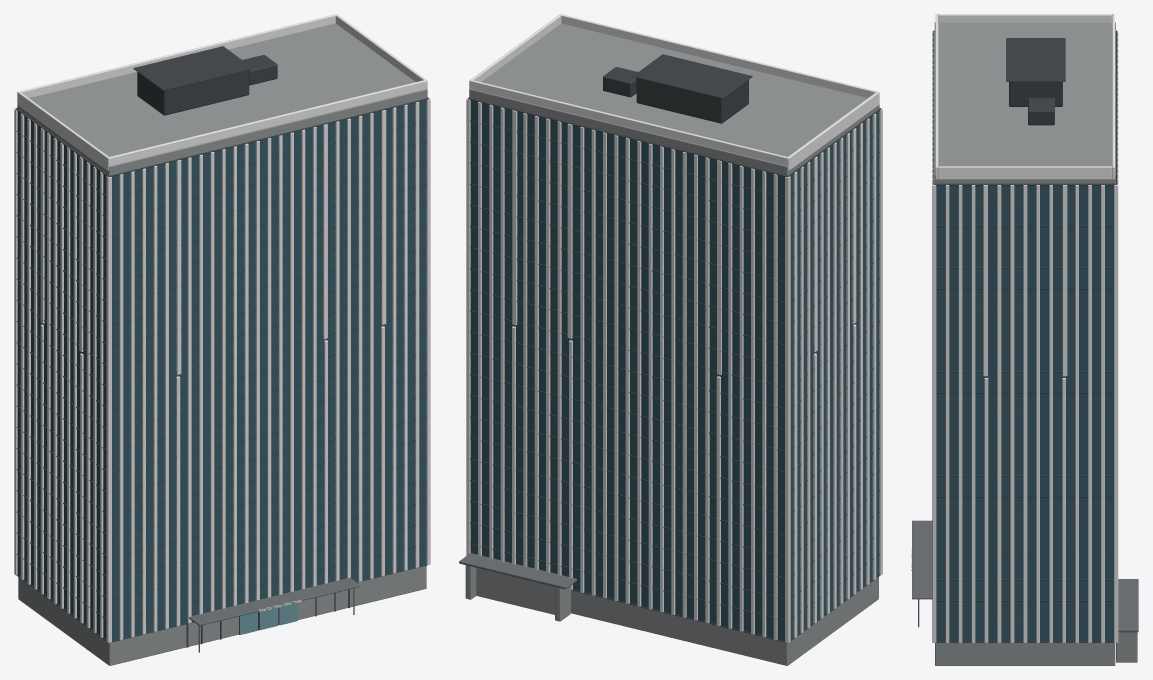
File: divercity-office-tower.glb
3 views of the same model, side by side, from view 1: azimuth 30°, elevation 25°; view 2: azimuth 150°, elevation 25°; view 3: azimuth 270°, elevation 25° (orthographic).
Parts seen in each view (by area): view 1: Facade_Glass_Front, Facade_Vertical_Fins_Long, Structure_Main_Masses, Facade_Vertical_Fins_Short, Facade_Glass_West, Facade_Floor_Bands_Long, Roof_Parapets, Roof_PH1_Plant, Facade_Floor_Bands_Short, Entrance_Canopy, Entrance_Doors; view 2: Facade_Glass_Rear, Facade_Vertical_Fins_Long, Structure_Main_Masses, Facade_Vertical_Fins_Short, Facade_Glass_West, Facade_Floor_Bands_Long, Roof_Parapets, Roof_PH1_Plant, Facade_Floor_Bands_Short, Vehicle_Entrance_Structure, Vehicle_Entrance_Canopy; view 3: Facade_Glass_East, Facade_Vertical_Fins_Short, Structure_Main_Masses, Facade_Floor_Bands_Short, Roof_Parapets, Roof_PH1_Plant, Entrance_Canopy, Facade_Vertical_Fins_Long, Vehicle_Entrance_Canopy, Vehicle_Entrance_Structure, Facade_Floor_Bands_Long.
Boxes of the visible parts, x1=… form: Facade_Glass_Front: x1=112, y1=100, x2=426, y2=640; Facade_Vertical_Fins_Long: x1=15, y1=99, x2=430, y2=642; Structure_Main_Masses: x1=17, y1=23, x2=427, y2=665; Facade_Vertical_Fins_Short: x1=14, y1=98, x2=430, y2=642; Facade_Glass_West: x1=17, y1=111, x2=106, y2=638; Facade_Floor_Bands_Long: x1=16, y1=98, x2=428, y2=642; Roof_Parapets: x1=17, y1=14, x2=427, y2=170; Roof_PH1_Plant: x1=133, y1=46, x2=277, y2=115; Facade_Floor_Bands_Short: x1=16, y1=97, x2=428, y2=640; Entrance_Canopy: x1=189, y1=577, x2=360, y2=652; Entrance_Doors: x1=239, y1=602, x2=297, y2=634; Facade_Glass_Rear: x1=470, y1=100, x2=784, y2=640; Facade_Vertical_Fins_Long: x1=466, y1=99, x2=882, y2=642; Structure_Main_Masses: x1=469, y1=23, x2=879, y2=665; Facade_Vertical_Fins_Short: x1=466, y1=98, x2=882, y2=642; Facade_Glass_West: x1=790, y1=111, x2=879, y2=638; Facade_Floor_Bands_Long: x1=468, y1=98, x2=881, y2=642; Roof_Parapets: x1=469, y1=14, x2=879, y2=170; Roof_PH1_Plant: x1=603, y1=54, x2=752, y2=123; Facade_Floor_Bands_Short: x1=468, y1=97, x2=880, y2=640; Vehicle_Entrance_Structure: x1=465, y1=565, x2=570, y2=621; Vehicle_Entrance_Canopy: x1=459, y1=553, x2=576, y2=589; Facade_Glass_East: x1=936, y1=185, x2=1113, y2=641; Facade_Vertical_Fins_Short: x1=932, y1=184, x2=1117, y2=642; Structure_Main_Masses: x1=934, y1=22, x2=1115, y2=665; Facade_Floor_Bands_Short: x1=934, y1=31, x2=1116, y2=642; Roof_Parapets: x1=935, y1=14, x2=1114, y2=179; Roof_PH1_Plant: x1=1006, y1=38, x2=1065, y2=125; Entrance_Canopy: x1=912, y1=520, x2=932, y2=627; Facade_Vertical_Fins_Long: x1=932, y1=31, x2=1118, y2=642; Vehicle_Entrance_Canopy: x1=1118, y1=579, x2=1138, y2=632; Vehicle_Entrance_Structure: x1=1116, y1=632, x2=1137, y2=662; Facade_Floor_Bands_Long: x1=933, y1=30, x2=1117, y2=184.
Bounding box in the file's own units: 67.86 × 106 × 42.1.
